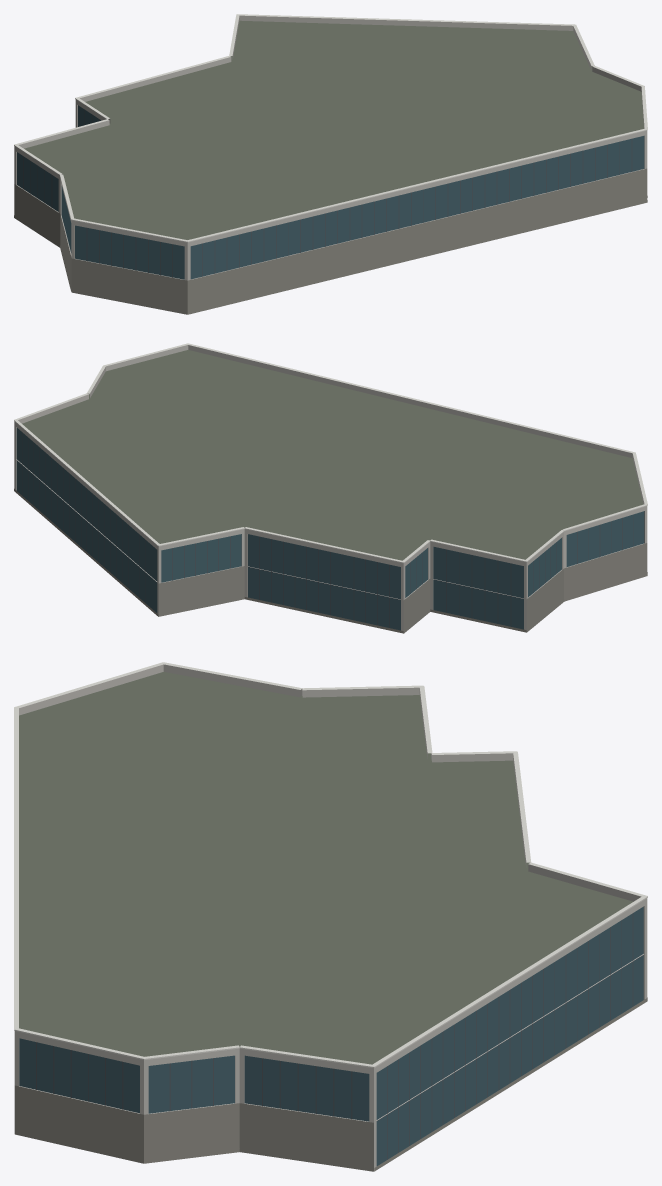
The picture shows the model from 3 angles, top to bottom: view 1: azimuth 30°, elevation 25°; view 2: azimuth 150°, elevation 25°; view 3: azimuth 270°, elevation 25°; orthographic projection. The views are drawn at different scales.
Visible parts, largest first — view 1: beartopia__roof, beartopia__base, beartopia__glass, beartopia__parapet, beartopia__trim, beartopia__frame, beartopia__wall; view 2: beartopia__roof, beartopia__glass, beartopia__base, beartopia__parapet, beartopia__trim, beartopia__frame, beartopia__wall; view 3: beartopia__roof, beartopia__glass, beartopia__base, beartopia__parapet, beartopia__trim, beartopia__frame, beartopia__wall.
Part boxes in pixels (x1,y1,x2,y2): beartopia__roof: [24, 20, 643, 239]; beartopia__base: [14, 168, 647, 314]; beartopia__glass: [17, 105, 644, 279]; beartopia__parapet: [14, 15, 647, 246]; beartopia__trim: [14, 14, 647, 242]; beartopia__frame: [23, 110, 632, 277]; beartopia__wall: [14, 103, 647, 280]; beartopia__roof: [22, 350, 643, 560]; beartopia__glass: [16, 427, 644, 630]; beartopia__base: [14, 489, 647, 633]; beartopia__parapet: [14, 345, 647, 567]; beartopia__trim: [14, 343, 647, 563]; beartopia__frame: [17, 432, 633, 627]; beartopia__wall: [14, 425, 647, 630]; beartopia__roof: [19, 672, 633, 1064]; beartopia__glass: [19, 906, 643, 1165]; beartopia__base: [14, 997, 647, 1171]; beartopia__parapet: [14, 664, 647, 1073]; beartopia__trim: [14, 662, 647, 1067]; beartopia__frame: [36, 913, 644, 1159]; beartopia__wall: [14, 904, 647, 1170].
Bounding box in the file's own units: 71.17 × 8.62 × 47.11.
